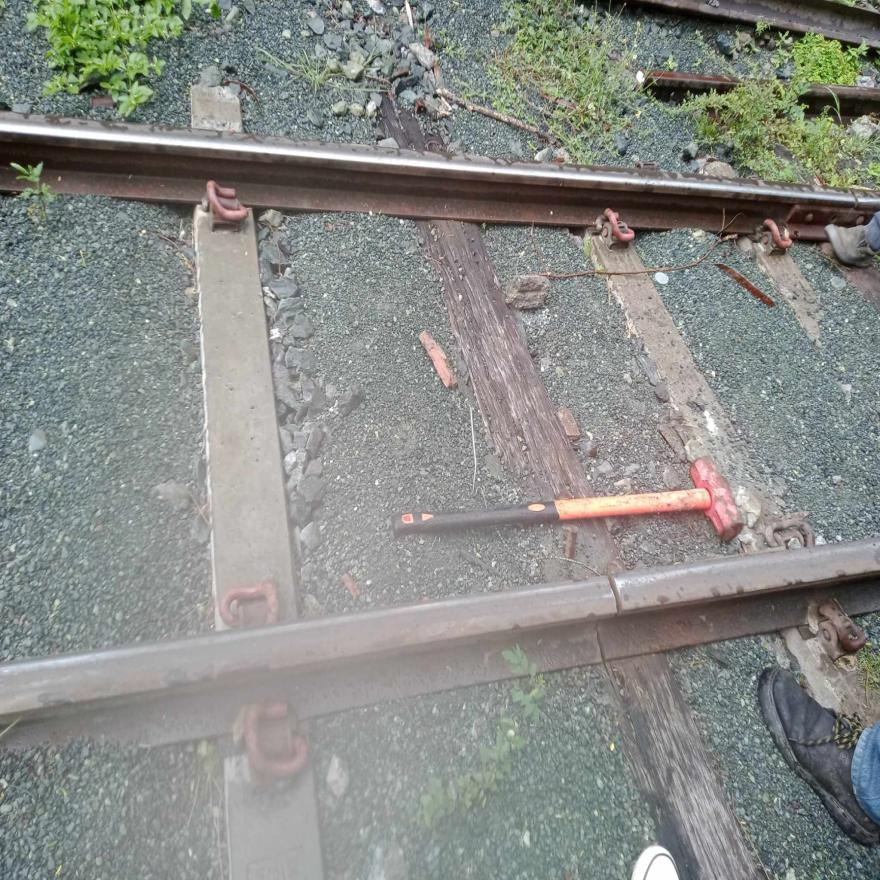railway-gap: (590, 568, 641, 624), (573, 620, 626, 666), (834, 165, 871, 226)
